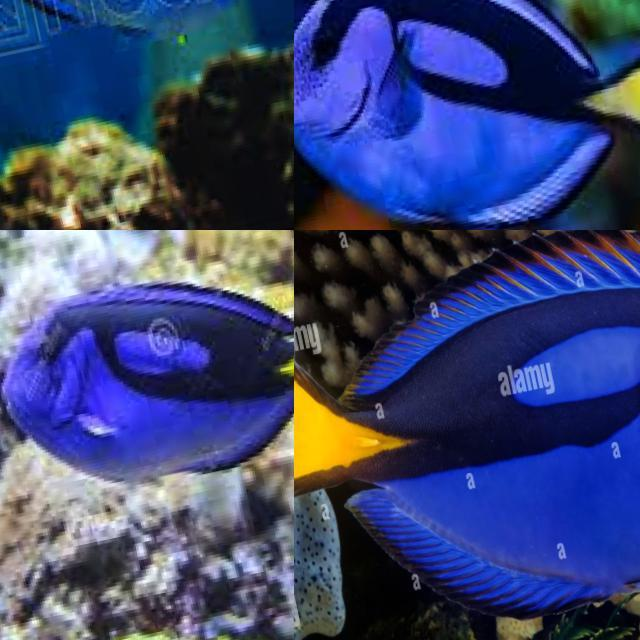BlueTang: (294, 243, 640, 615), (294, 0, 640, 230), (0, 284, 293, 482)
